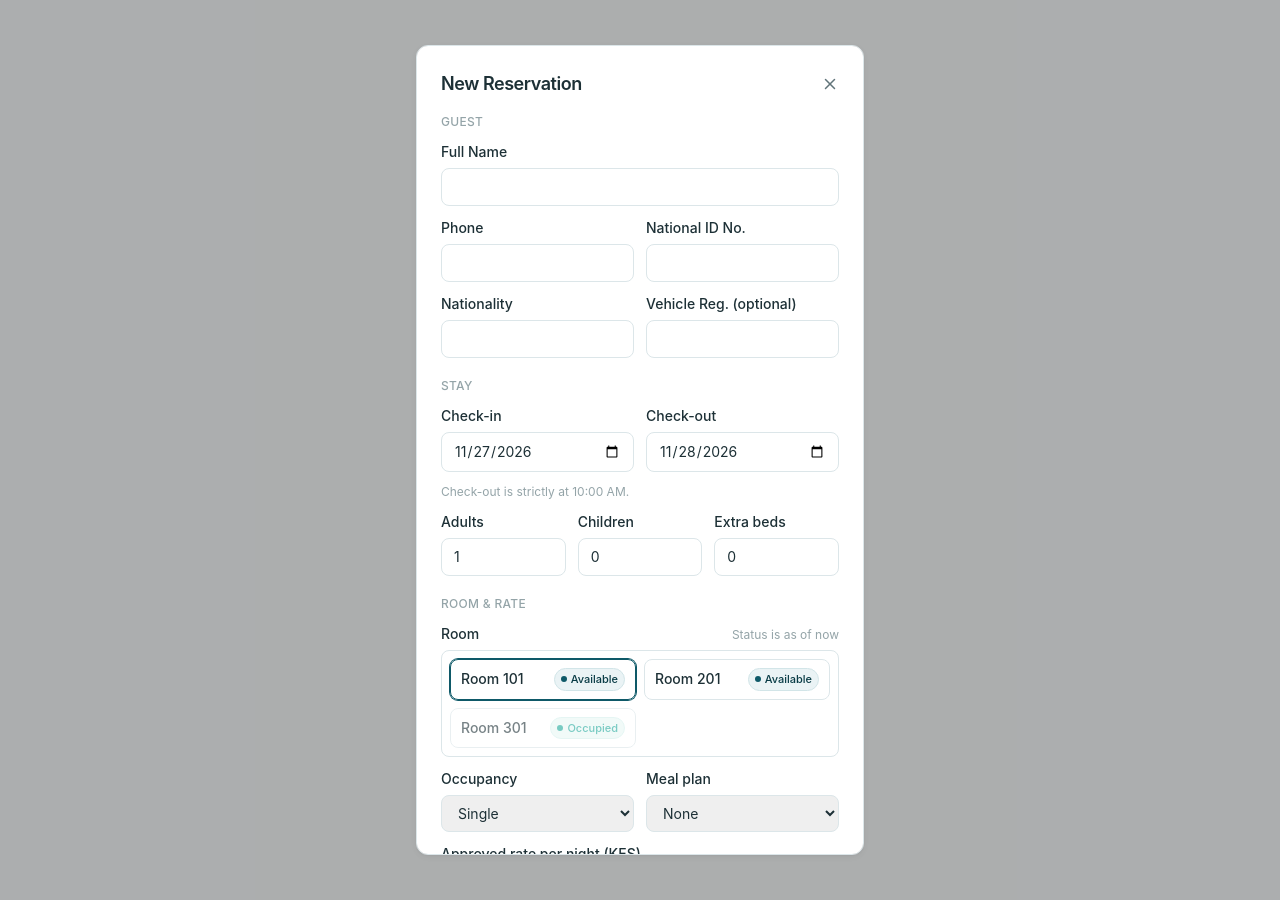
Test: CreateReservationModal pricing › asks the server for a different occupancy when the party no longer fits
The width and height of the screenshot is (1280, 900).
Replace the text in the number field with test id "adults" with "2" at (503, 557), box [441,538,566,576]
(page scrolled)
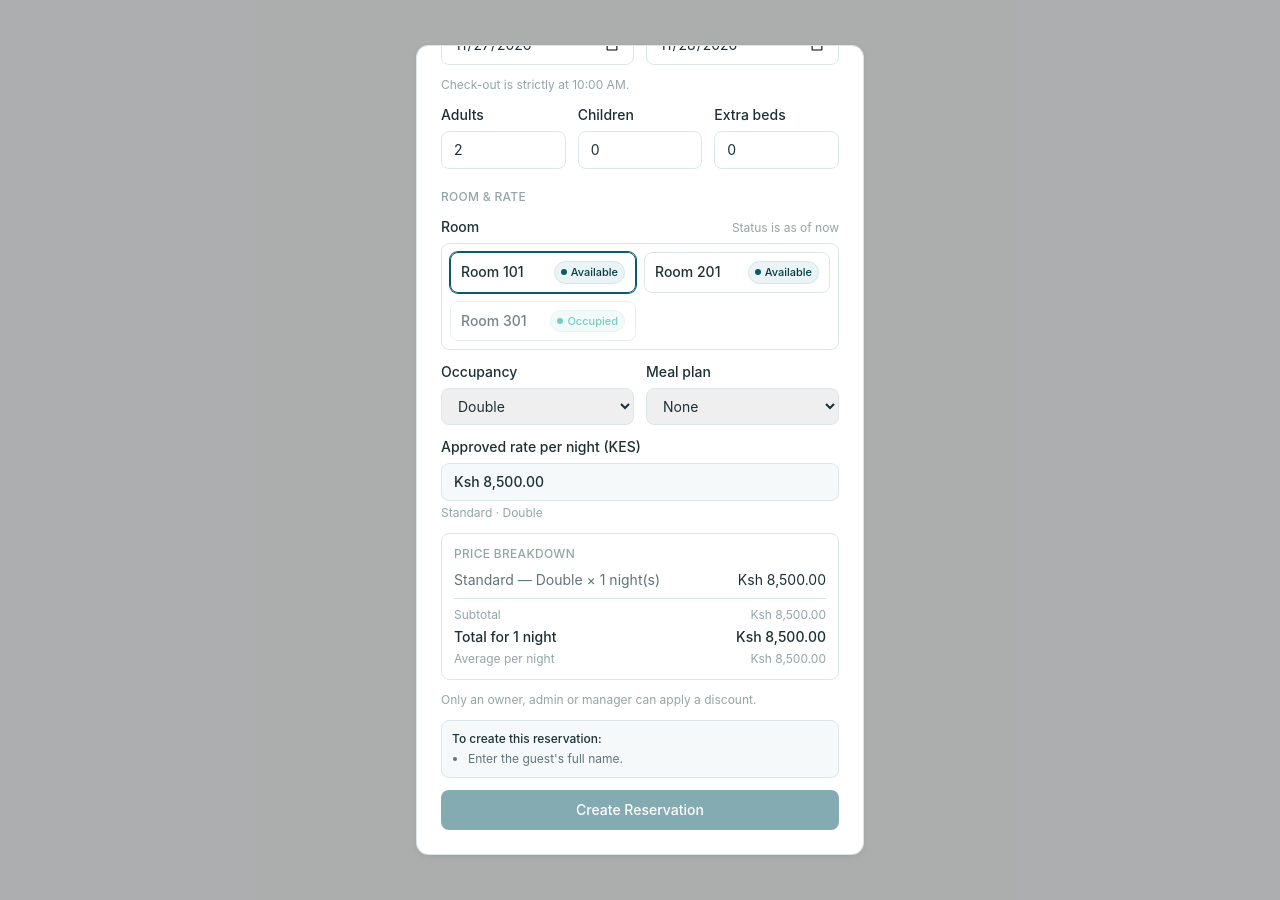
Expected: the dropdown with test id "occupancy-select" shows "Double", [441,388,634,425]
Expected: the text with test id "approved-rate" shows "8,500", [454,473,544,490]
